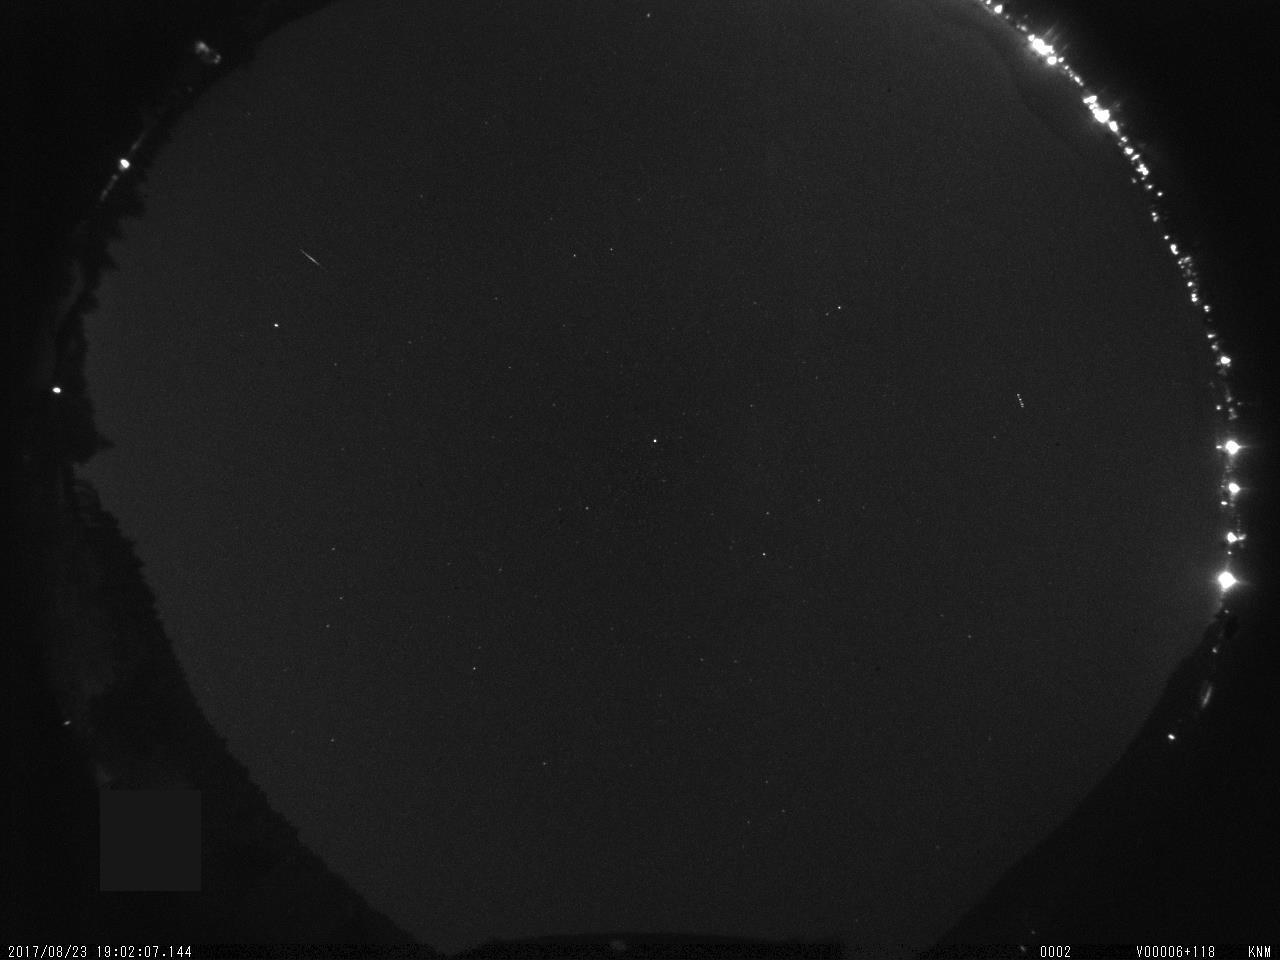meteor: (292, 242, 332, 277)
satelite: (1010, 387, 1031, 417)
